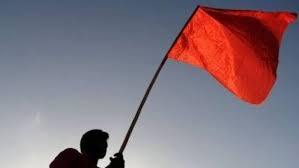Flag: (168, 7, 296, 105)
